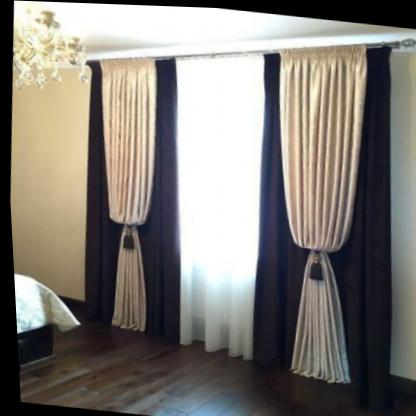Curtains: (74, 34, 411, 405)
Wooden floor: (15, 324, 373, 416)
